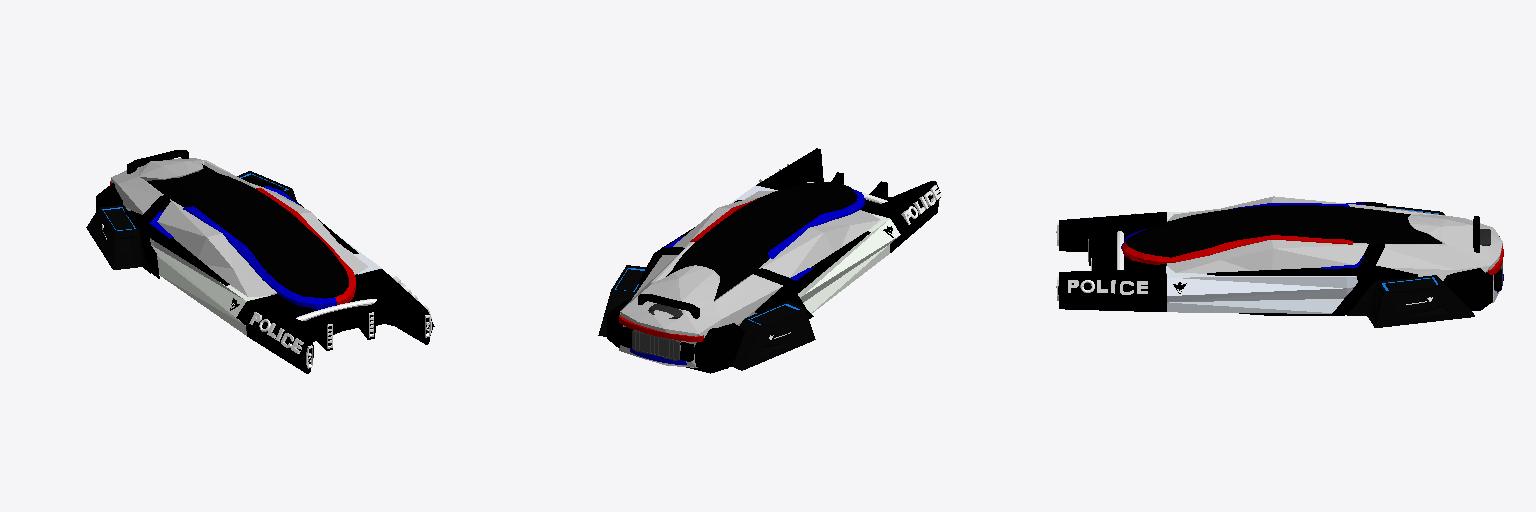
File: police.obj
3 views of the same model, side by side, from view 1: azimuth 30°, elevation 25°; view 2: azimuth 150°, elevation 25°; view 3: azimuth 270°, elevation 25° (orthographic).
Visible parts, largest first — view 1: 球, 立方体, 立方体.008, 立方体.002, ICO球_ICO球.001, 立方体.007, 立方体.006, 立方体.010, 立方体.004, 立方体.009, 立方体.022_立方体.050; view 2: 球, ICO球_ICO球.001, 立方体, 立方体.007, 立方体.008, 立方体.002, 立方体.027_立方体.064, 立方体.006, 立方体.005, 立方体.011, 立方体.010, 立方体.004 (+2 smaller); view 3: 球, 立方体, 立方体.001, ICO球_ICO球.001, 立方体.004, 立方体.005, 立方体.003, 立方体.009, 立方体.027_立方体.064, 立方体.008, 立方体.034_立方体.046.
Boxes of the visible parts, box(x1,y1,x2,y2) form: 球: box(147, 164, 348, 334); 立方体: box(236, 269, 434, 373); 立方体.008: box(157, 199, 276, 296); 立方体.002: box(150, 238, 270, 335); ICO球_ICO球.001: box(111, 158, 246, 214); 立方体.007: box(86, 205, 150, 273); 立方体.006: box(125, 195, 229, 285); 立方体.010: box(183, 206, 336, 309); 立方体.004: box(245, 182, 367, 274); 立方体.009: box(256, 188, 355, 304); 立方体.022_立方体.050: box(249, 312, 303, 353); 球: box(666, 182, 856, 300); ICO球_ICO球.001: box(619, 251, 782, 367); 立方体: box(756, 148, 940, 252); 立方体.007: box(731, 301, 815, 370); 立方体.008: box(759, 210, 880, 277); 立方体.002: box(798, 213, 900, 313); 立方体.027_立方体.064: box(607, 299, 744, 373); 立方体.006: box(752, 231, 870, 318); 立方体.005: box(598, 265, 645, 336); 立方体.011: box(632, 330, 679, 360); 立方体.010: box(768, 185, 864, 258); 立方体.004: box(673, 191, 774, 252); 球: box(1126, 205, 1441, 315); 立方体: box(1058, 212, 1166, 311); 立方体.001: box(1166, 266, 1357, 313); ICO球_ICO球.001: box(1376, 207, 1502, 302); 立方体.004: box(1167, 240, 1368, 273); 立方体.005: box(1347, 275, 1474, 327); 立方体.003: box(1207, 243, 1417, 315); 立方体.009: box(1122, 235, 1352, 264); 立方体.027_立方体.064: box(1443, 268, 1492, 310); 立方体.008: box(1167, 196, 1381, 221); 立方体.034_立方体.046: box(1068, 280, 1147, 294).
Bounding box in the file's own units: 1.95 × 0.8677 × 3.97.